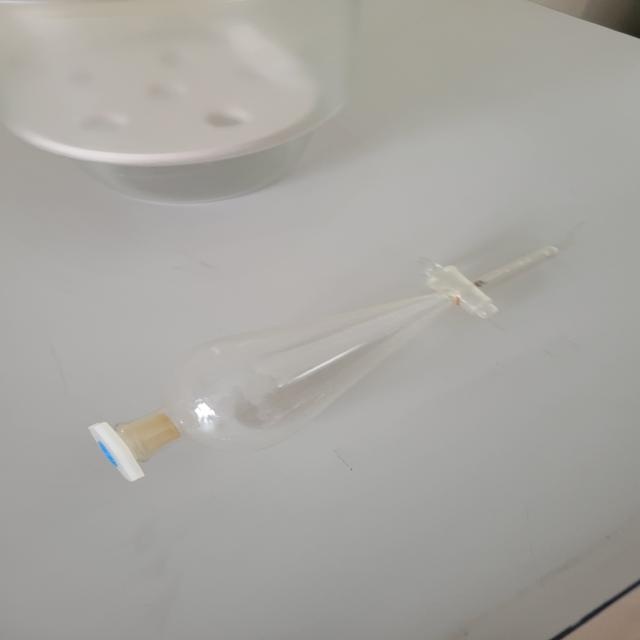Separating_Funnel: (49, 218, 584, 498)
